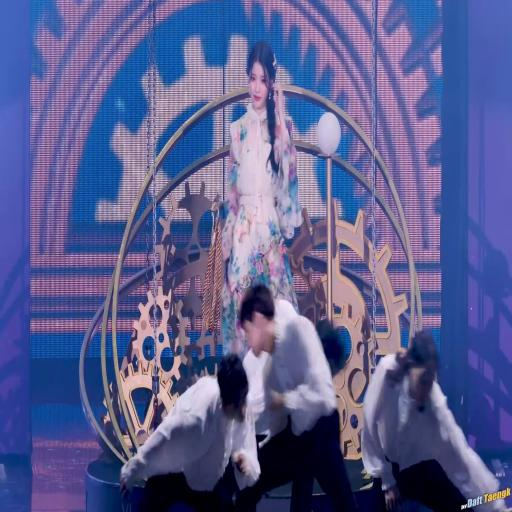IU: (245, 43, 278, 109)
